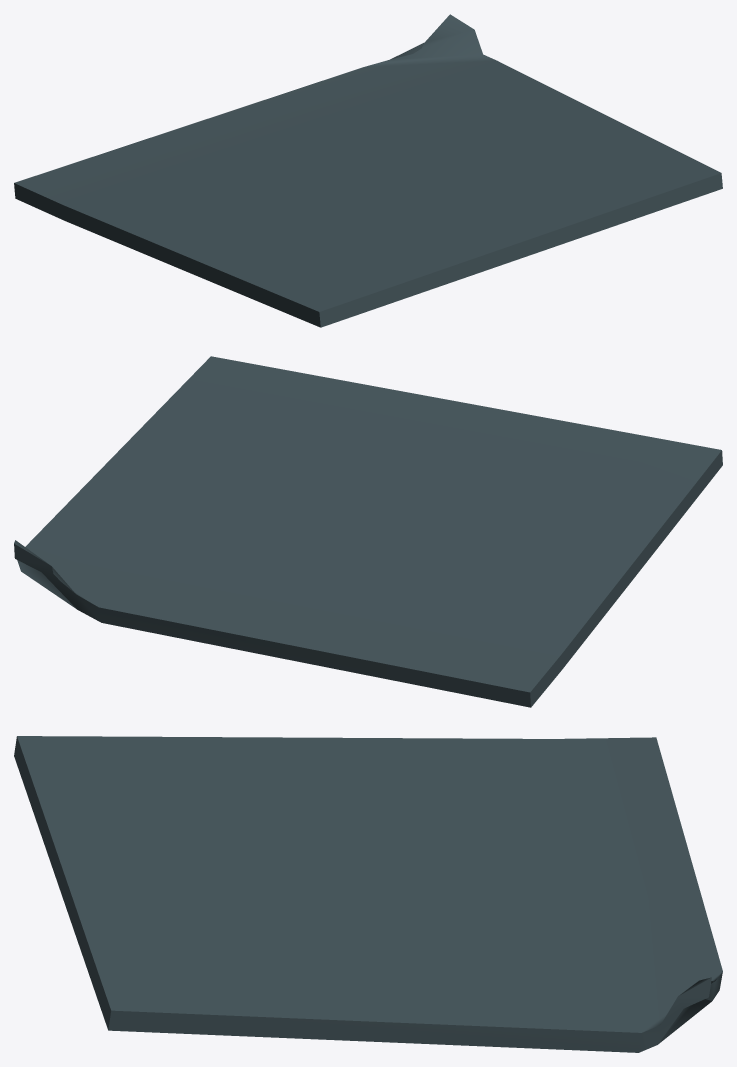
The model's file is Trash.fbx.
3 views of the same model, one above another, from view 1: azimuth 30°, elevation 25°; view 2: azimuth 150°, elevation 25°; view 3: azimuth 270°, elevation 25° (orthographic). The views are drawn at different scales.
Visible parts, largest first — view 1: Trash; view 2: Trash; view 3: Trash.
Part boxes in pixels (box(x1,y1,x2,y2)): Trash: box(14, 14, 722, 327); Trash: box(14, 356, 722, 707); Trash: box(14, 736, 722, 1052).
Bounding box in the file's own units: 2 × 0.216 × 1.85.
